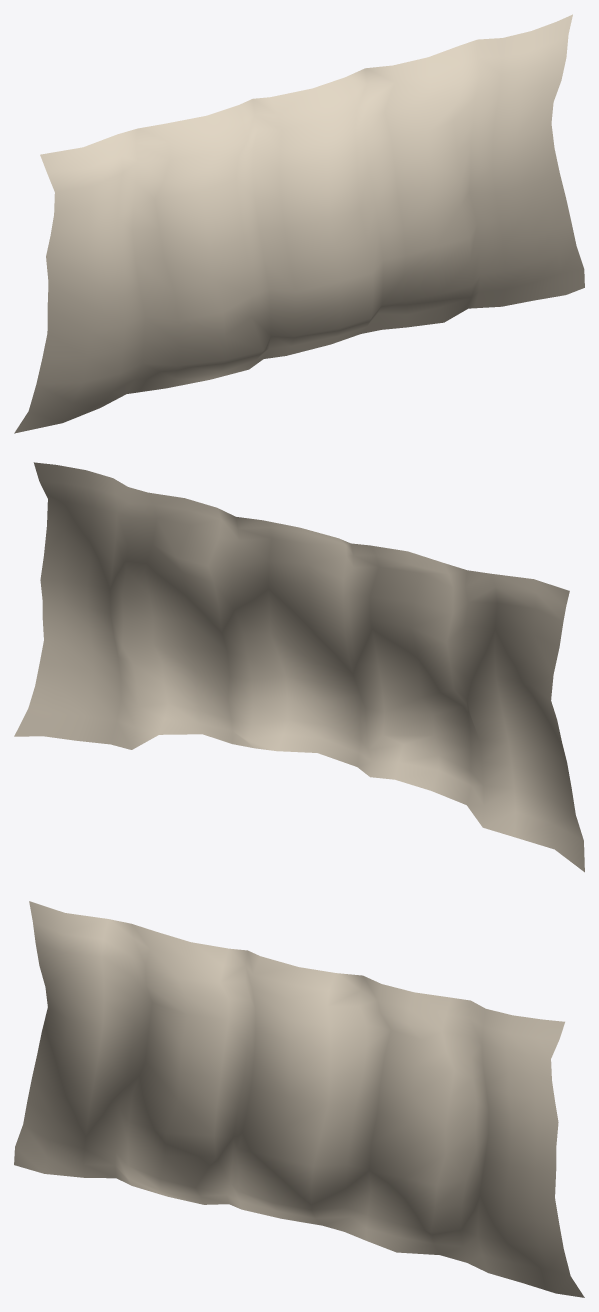
The model's file is cloth-base.glb.
The picture shows the model from 3 angles, top to bottom: view 1: azimuth 30°, elevation 25°; view 2: azimuth 150°, elevation 25°; view 3: azimuth 330°, elevation 25°; orthographic projection.
Bounding box in the file's own units: 9.23 × 4.31 × 1.13.
